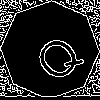Q: (25, 25, 87, 88)
